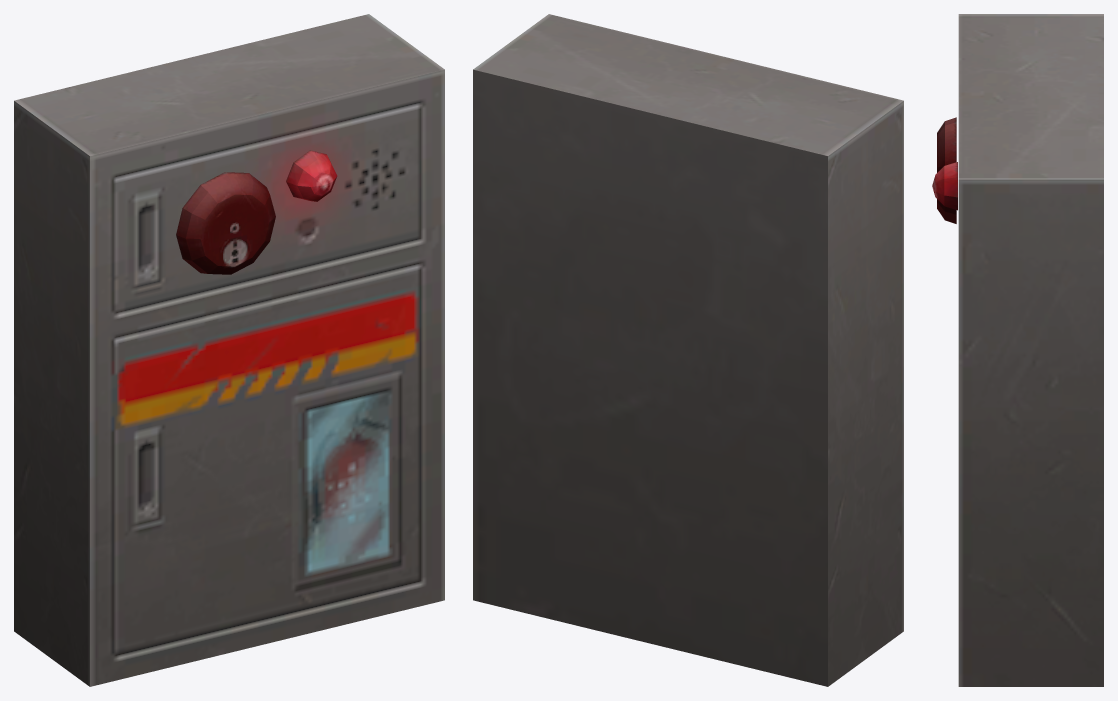
Rendered from fireHydrant.obj.
3 views of the same model, side by side, from view 1: azimuth 30°, elevation 25°; view 2: azimuth 150°, elevation 25°; view 3: azimuth 270°, elevation 25° (orthographic). The views are drawn at different scales.
Parts seen in each view (by area): view 1: fireHydrant; view 2: fireHydrant; view 3: fireHydrant.
Part boxes in pixels (left/top/right/bottom): fireHydrant: left=14, top=14, right=444, bottom=686; fireHydrant: left=473, top=14, right=903, bottom=686; fireHydrant: left=932, top=14, right=1103, bottom=686.
Size of the model in its own units: 0.7 by 1 by 0.3069.
Materials: 1 (1 with a texture image).
